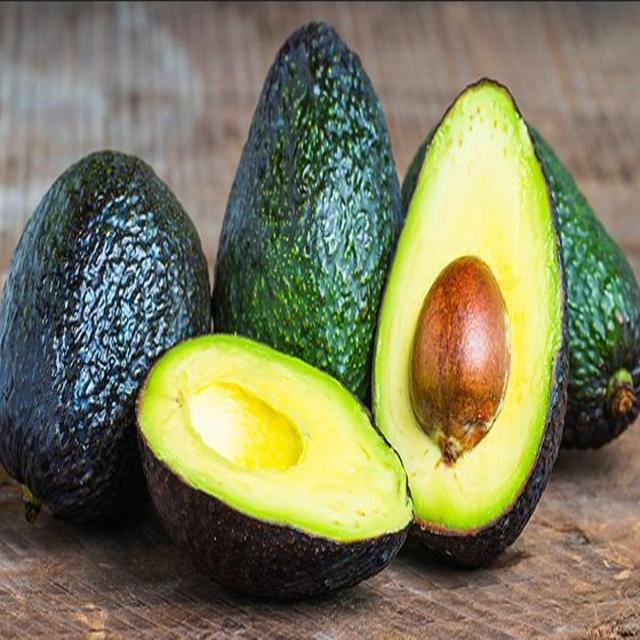aguacate: (378, 65, 578, 573), (121, 312, 412, 612)
